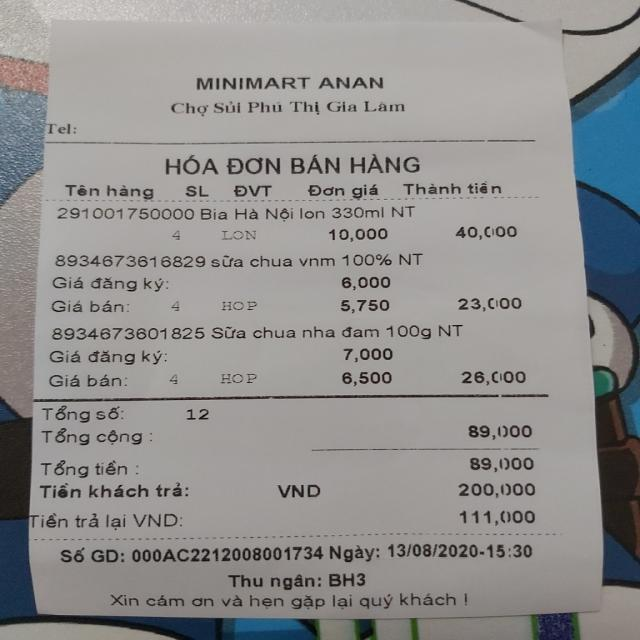Date: (385, 539, 480, 560)
Store_Name: (191, 74, 391, 93)
amount_number: (463, 423, 533, 441)
label_total: (39, 428, 148, 451)
